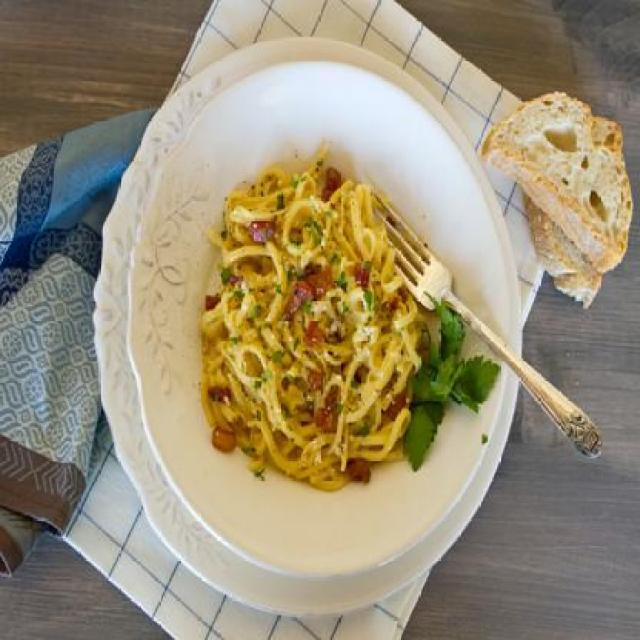Pasta with carbonara sauce: (153, 144, 482, 502)
